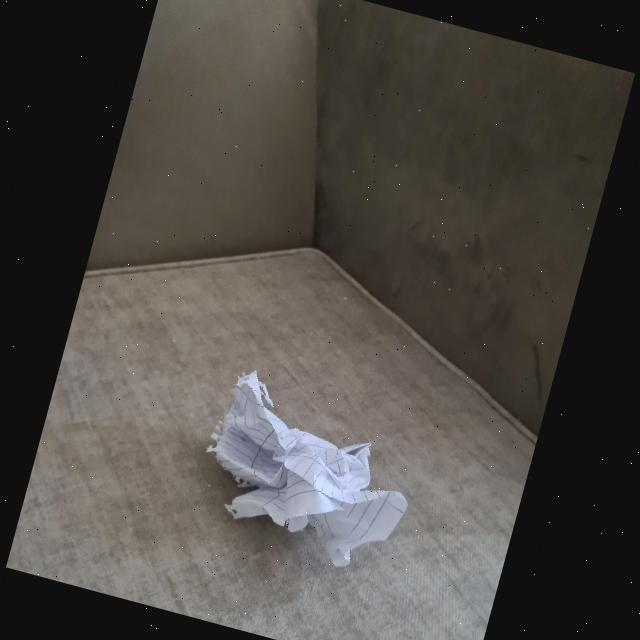trash: (179, 361, 433, 590)
